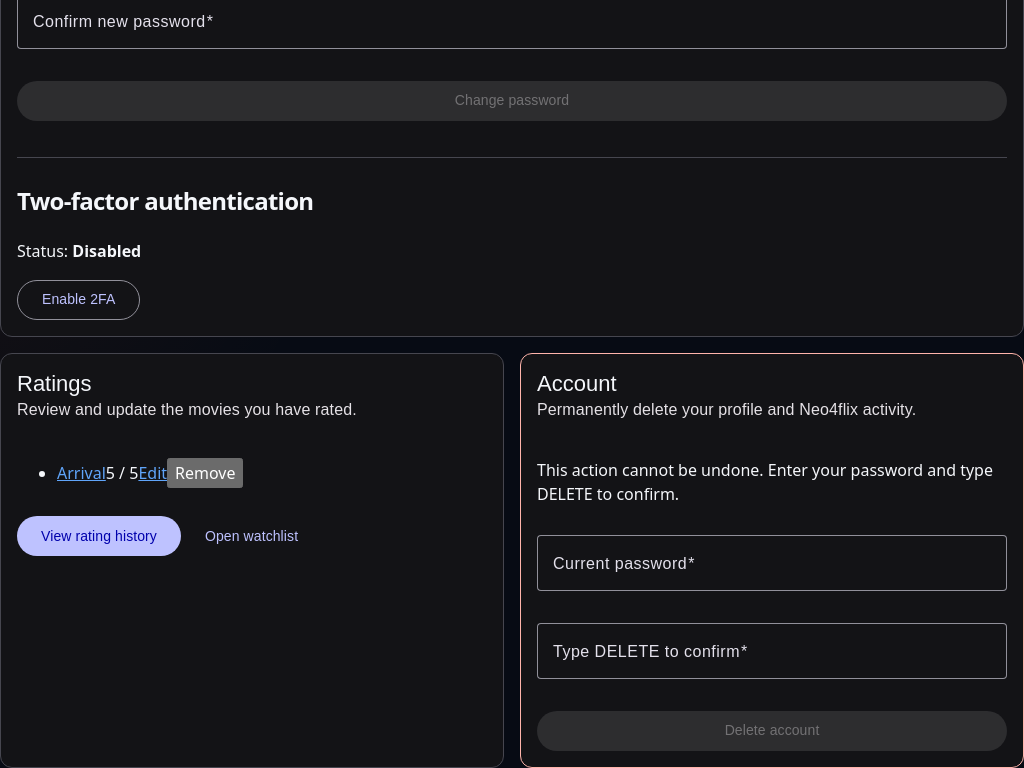
Test: ProfileComponent › renders rating history and removes an entry through the shared rating API
The width and height of the screenshot is (1024, 768).
(page scrolled)
Click the button "Remove": (205, 473) [167, 458, 244, 488]
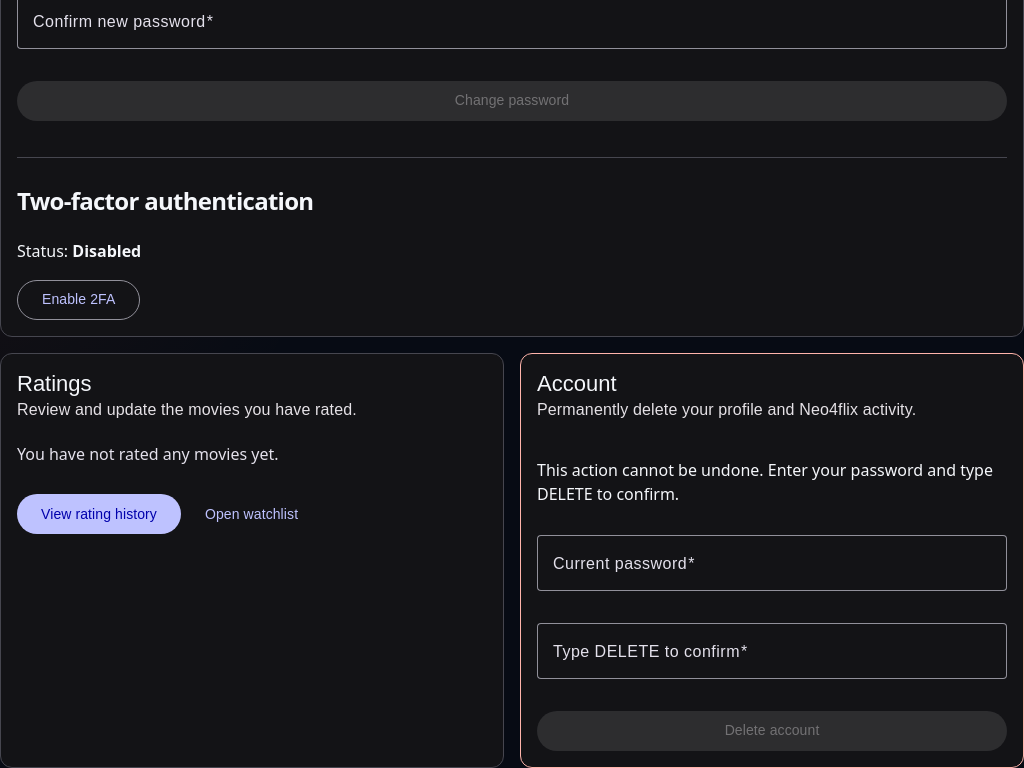
expect the list with test id "rating-history" is gone: met
